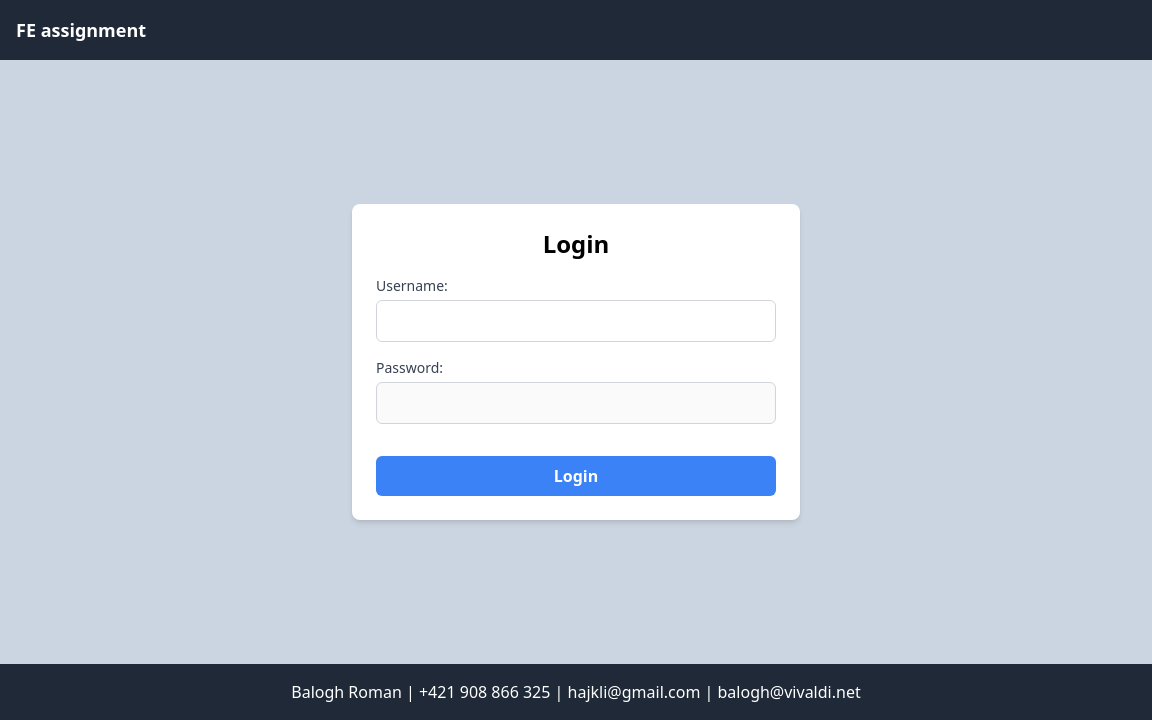
Scenario: End-to-End Test for Login, Adding Words and removing words › should login, navigate to words, and add a new word and remove the word
In the field with id "username": (576, 321) [376, 300, 776, 342], type "validUser"
Click the button with id "login": click(576, 476) [376, 456, 776, 496]
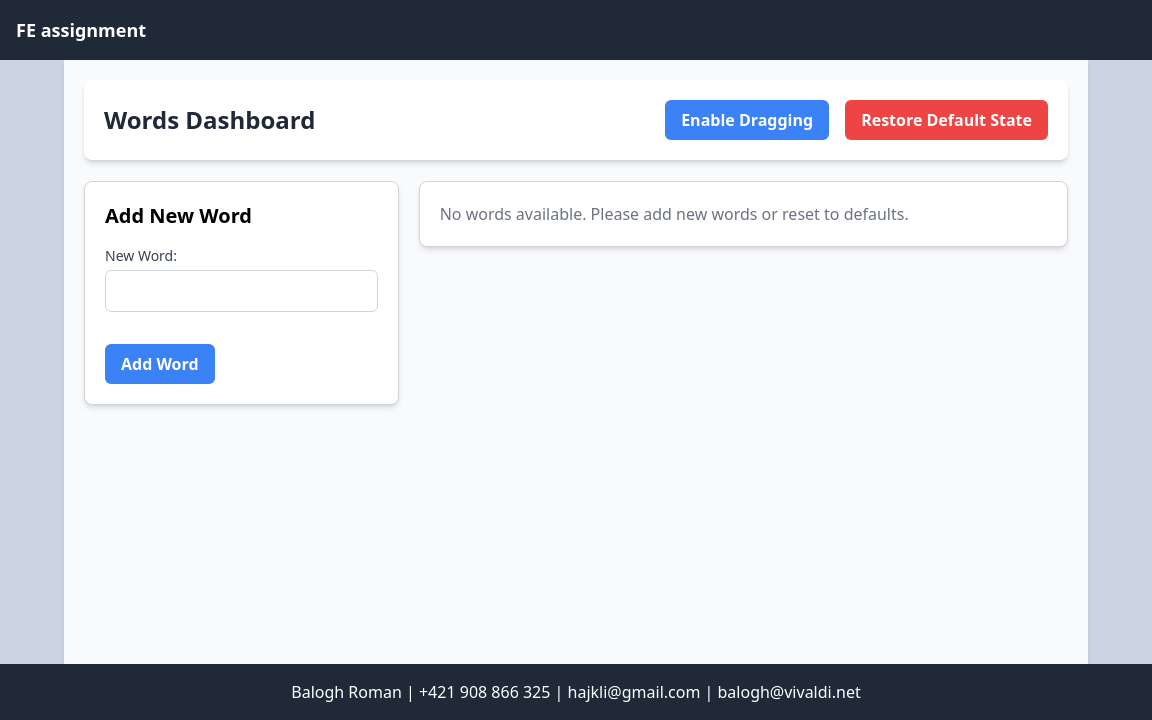
Now the button with id "add-new-word" is shown, box [105, 344, 215, 384]
Now the field with id "new-word" is shown
Now the element with class "word-list-container" is shown, box [419, 181, 1068, 247]
In the field with id "new-word": (242, 291) [105, 270, 378, 312], type "testword"
Click the button with id "add-new-word": click(160, 364) [105, 344, 215, 384]
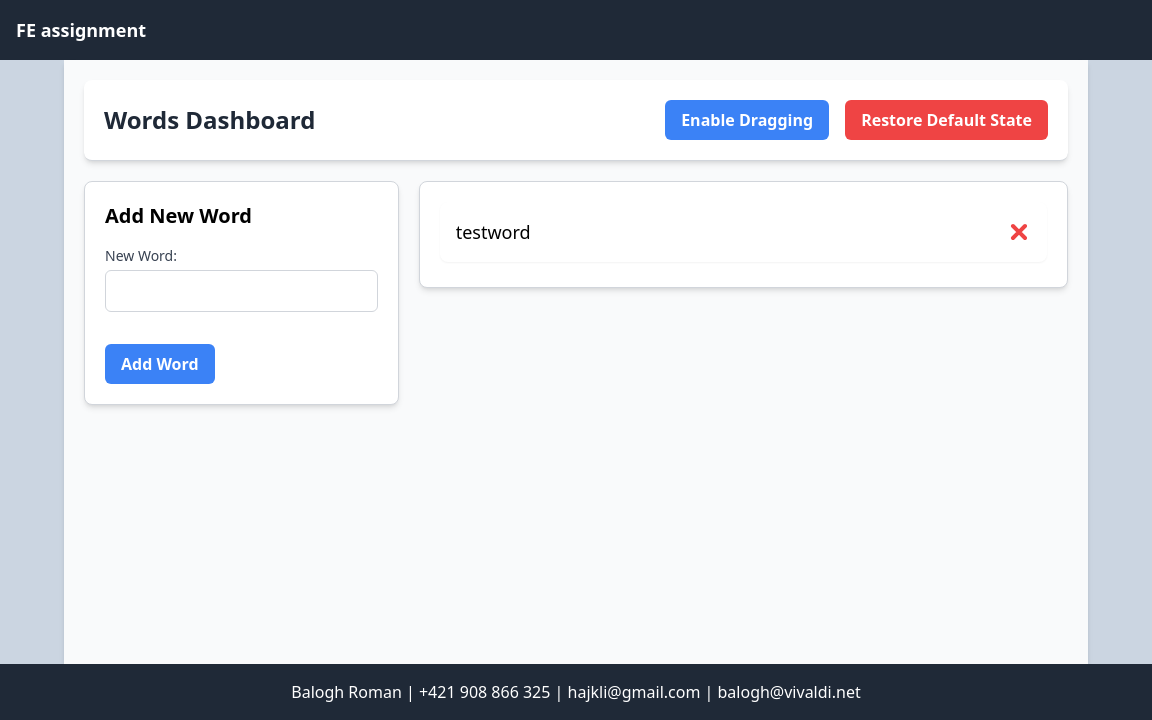
Now the text "testword" is shown, box [456, 218, 531, 246]
Cancel deletion
Click the 3rd button: click(1019, 232) [1007, 220, 1031, 244]
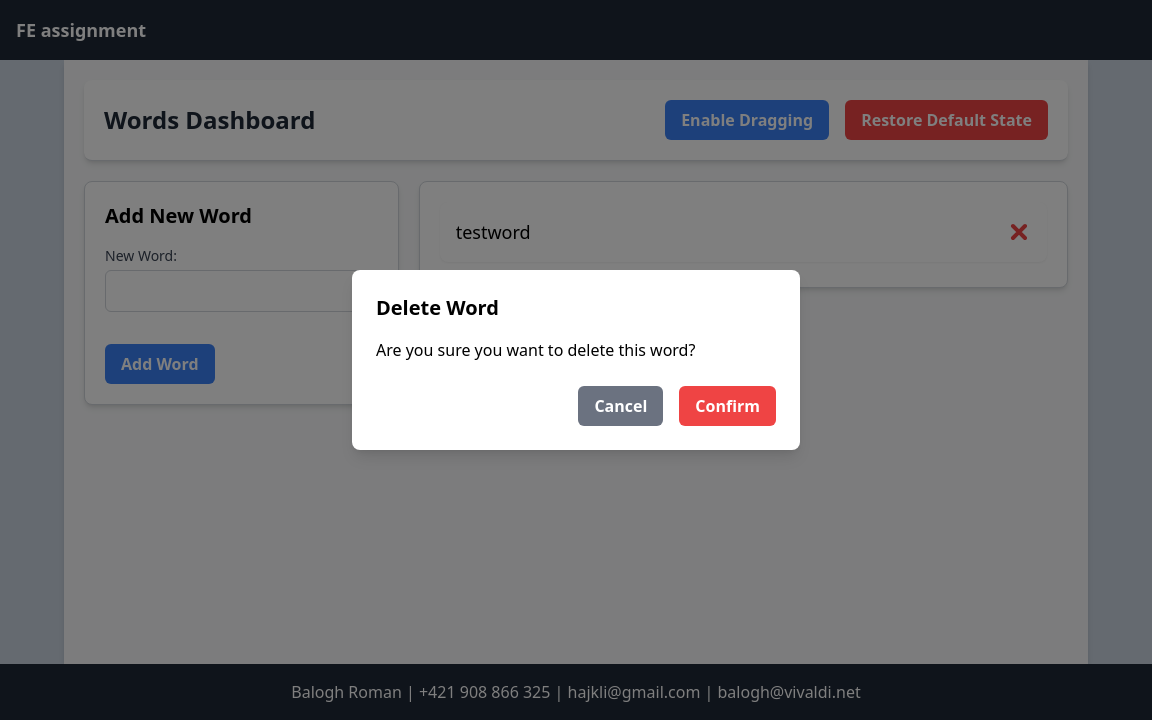
Click the button with id "confirmation-modal-cancel": click(621, 406) [578, 386, 663, 426]
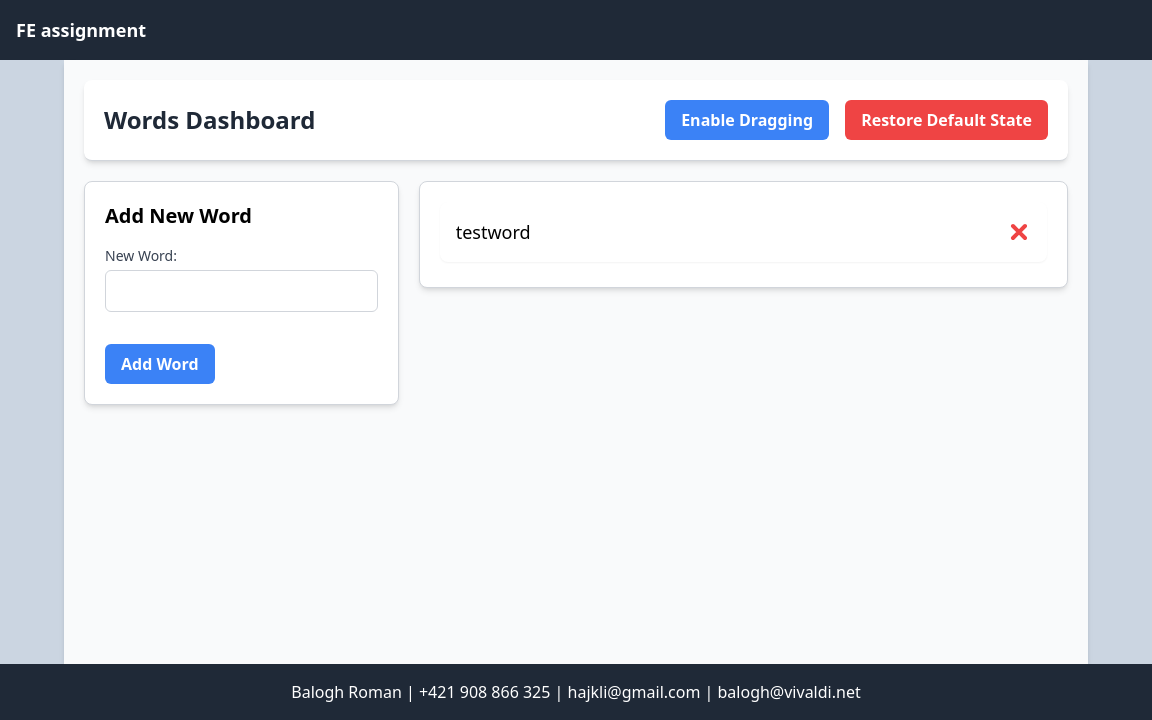
Now the text "testword" is shown, box [456, 218, 531, 246]
Confirm deletion
Click the 3rd button: click(1019, 232) [1007, 220, 1031, 244]
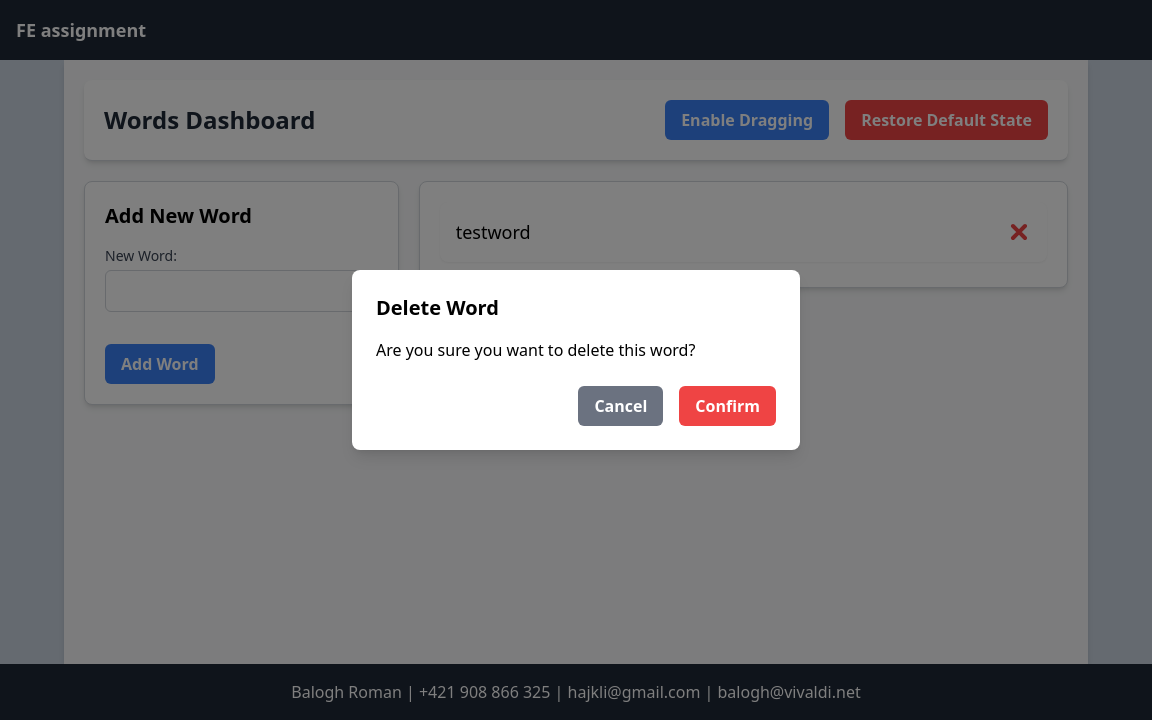
Click the button with id "confirmation-modal-confirm": click(728, 406) [679, 386, 776, 426]
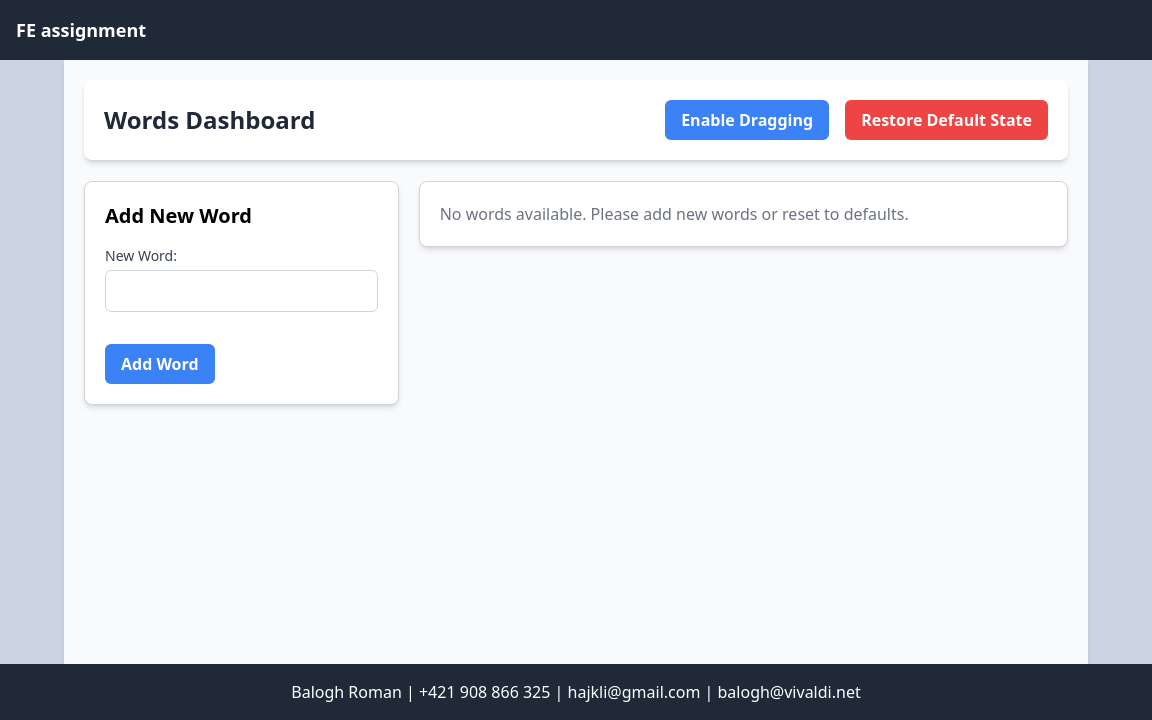
Now the text with class "word-list-container" no longer shows "testword"
